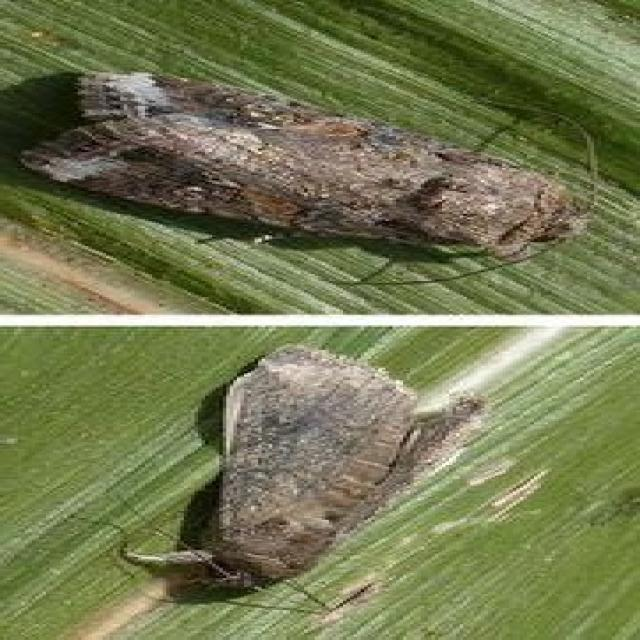army worm: (30, 66, 617, 280), (126, 340, 498, 620)
